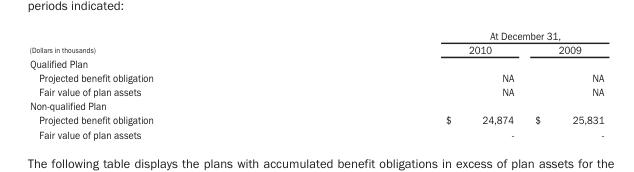table: (28, 28, 603, 141)
table column: (28, 28, 298, 141), (298, 28, 523, 141), (523, 28, 603, 141)
table column header: (28, 28, 603, 56)
table projected row header: (28, 56, 603, 70), (28, 98, 603, 112)
table row: (28, 112, 603, 127), (28, 28, 603, 42), (28, 42, 603, 56), (28, 56, 603, 70), (28, 70, 603, 84), (28, 84, 603, 98), (28, 98, 603, 112), (28, 127, 603, 141)
table spanning cell: (28, 28, 298, 56), (298, 28, 603, 42)
